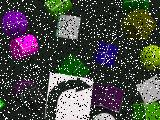Right: (44, 72, 94, 120)
